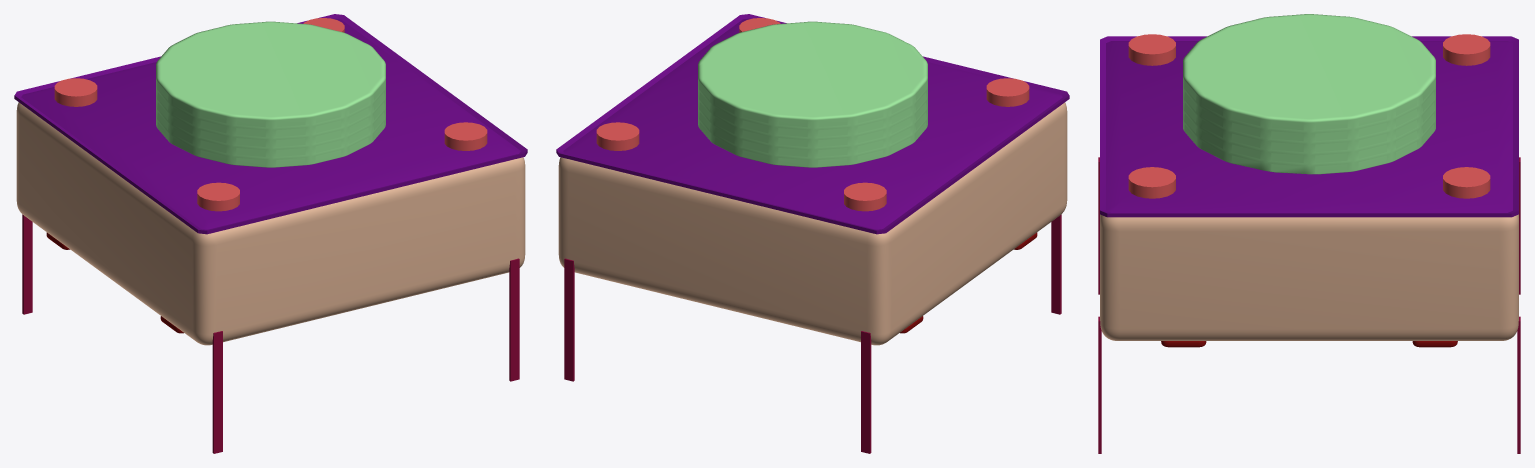
File: button.obj
The picture shows the model from 3 angles, left to right: view 1: azimuth 30°, elevation 25°; view 2: azimuth 150°, elevation 25°; view 3: azimuth 270°, elevation 25°; orthographic projection. The views are drawn at different scales.
Parts seen in each view (by area): view 1: Box001, Box002, Cylinder001, Box014, Box013, Cylinder002, Cylinder004, Cylinder005, Box016; view 2: Box001, Box002, Cylinder001, Box015, Box016, Cylinder005, Cylinder003, Cylinder002, Box013; view 3: Box001, Box002, Cylinder001, Cylinder002, Cylinder005, Cylinder003, Cylinder004, Box014, Box015.
Part boxes in pixels (x1,y1,x2,y2): Box001: (16,102,525,345); Box002: (14,14,527,234); Cylinder001: (156,21,385,167); Box014: (509,258,519,381); Box013: (212,331,222,453); Cylinder002: (54,78,97,106); Cylinder004: (444,122,487,150); Cylinder005: (197,182,239,211); Box016: (22,214,32,314); Box001: (558,102,1067,345); Box002: (556,14,1069,234); Cylinder001: (698,21,927,167); Box015: (564,258,574,381); Box016: (861,331,871,453); Cylinder005: (986,78,1029,106); Cylinder003: (596,122,639,150); Cylinder002: (844,182,886,211); Box013: (1051,214,1061,314); Box001: (1100,214,1518,340); Box002: (1100,36,1518,217); Cylinder001: (1183,14,1435,174); Cylinder002: (1443,34,1490,65); Cylinder005: (1128,34,1175,65); Cylinder003: (1443,167,1490,198); Cylinder004: (1128,167,1175,198); Box014: (1098,316,1101,453); Box015: (1517,316,1520,453).
Bounding box in the file's own units: 20 × 16.05 × 20.16.
